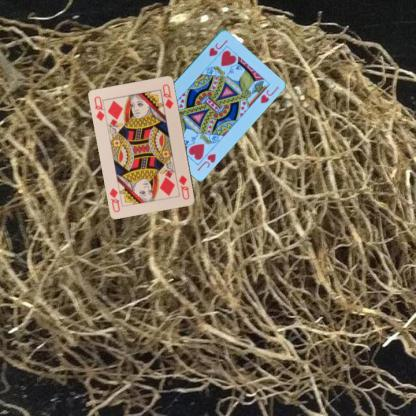Jh: (194, 151, 217, 172), (206, 37, 229, 57)
Qd: (92, 94, 108, 123), (176, 173, 191, 201)
